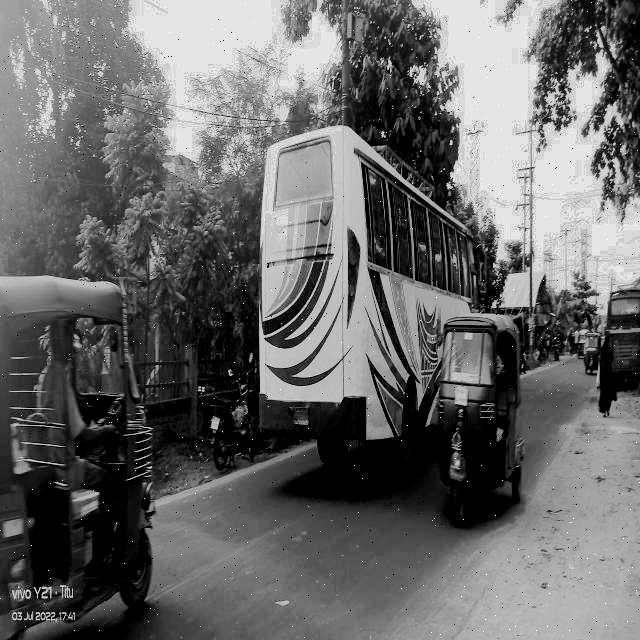Bus: (244, 111, 442, 494)
